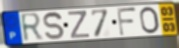7: (91, 8, 109, 38)
F: (116, 7, 138, 37)
O: (139, 6, 162, 35)
R: (19, 12, 45, 44)
S: (42, 11, 66, 41)
Z: (67, 10, 91, 40)
